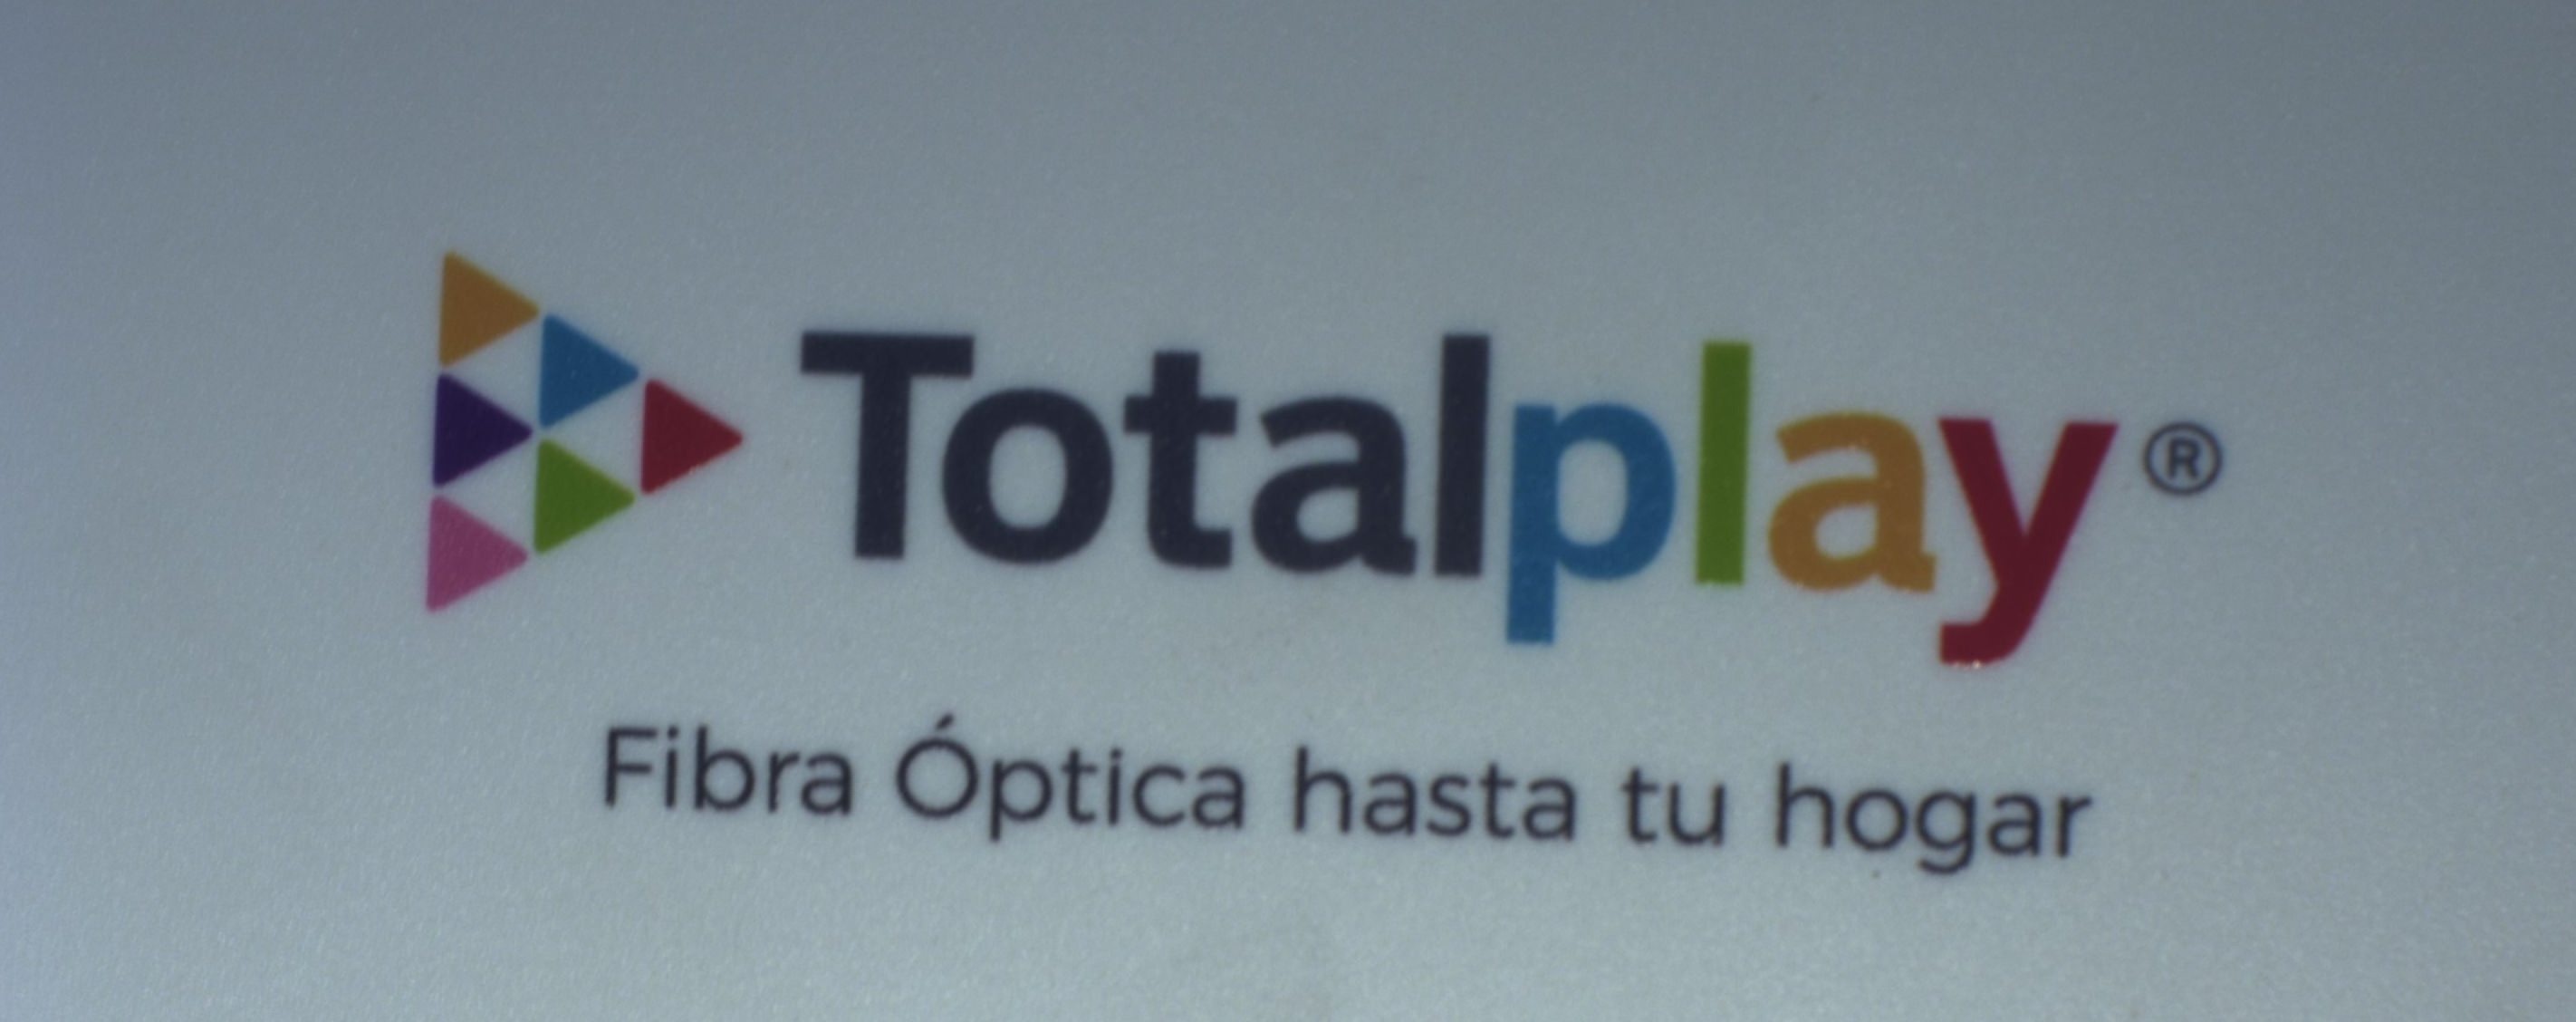BP_TotalPlay: (407, 250, 2236, 876)
